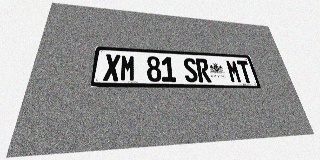1: (160, 57, 176, 82)
8: (147, 56, 162, 82)
M: (225, 60, 242, 83), (120, 55, 135, 81)
R: (195, 58, 212, 82)
S: (182, 58, 199, 82)
T: (236, 60, 254, 83)
X: (103, 54, 120, 81)
